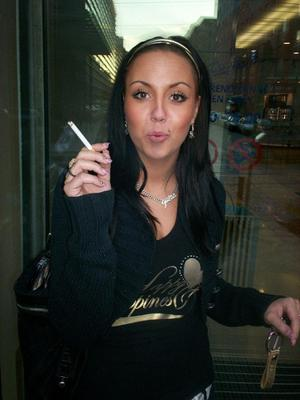person: (48, 35, 300, 398)
